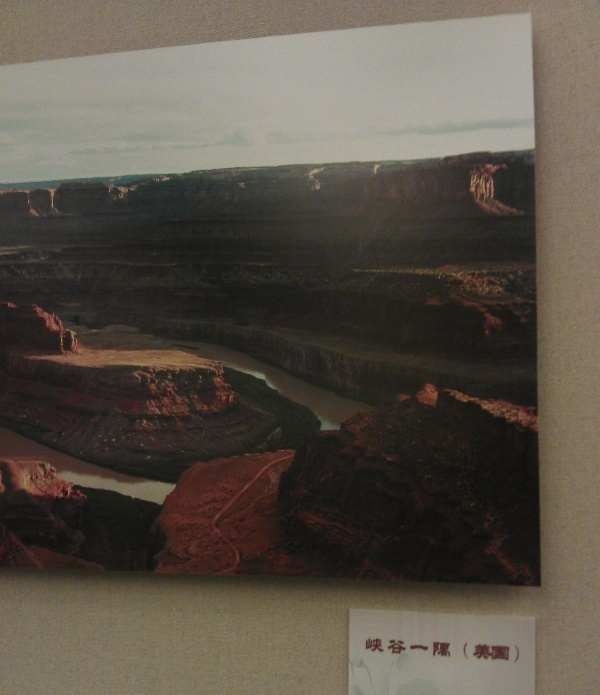text: (369, 636, 384, 660), (385, 636, 400, 660), (401, 636, 416, 660), (417, 636, 432, 660), (433, 636, 448, 660), (465, 640, 480, 664), (481, 640, 496, 664), (497, 640, 512, 664), (513, 640, 523, 664), (449, 636, 453, 660), (366, 636, 368, 660), (463, 640, 464, 664)
